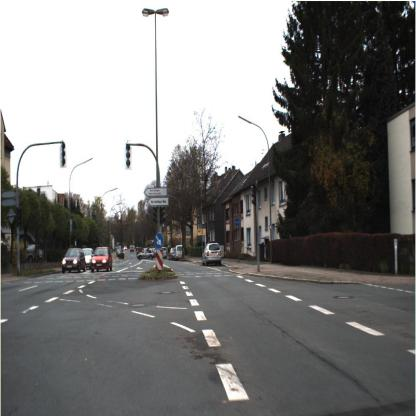mandatory: (152, 230, 165, 251)
